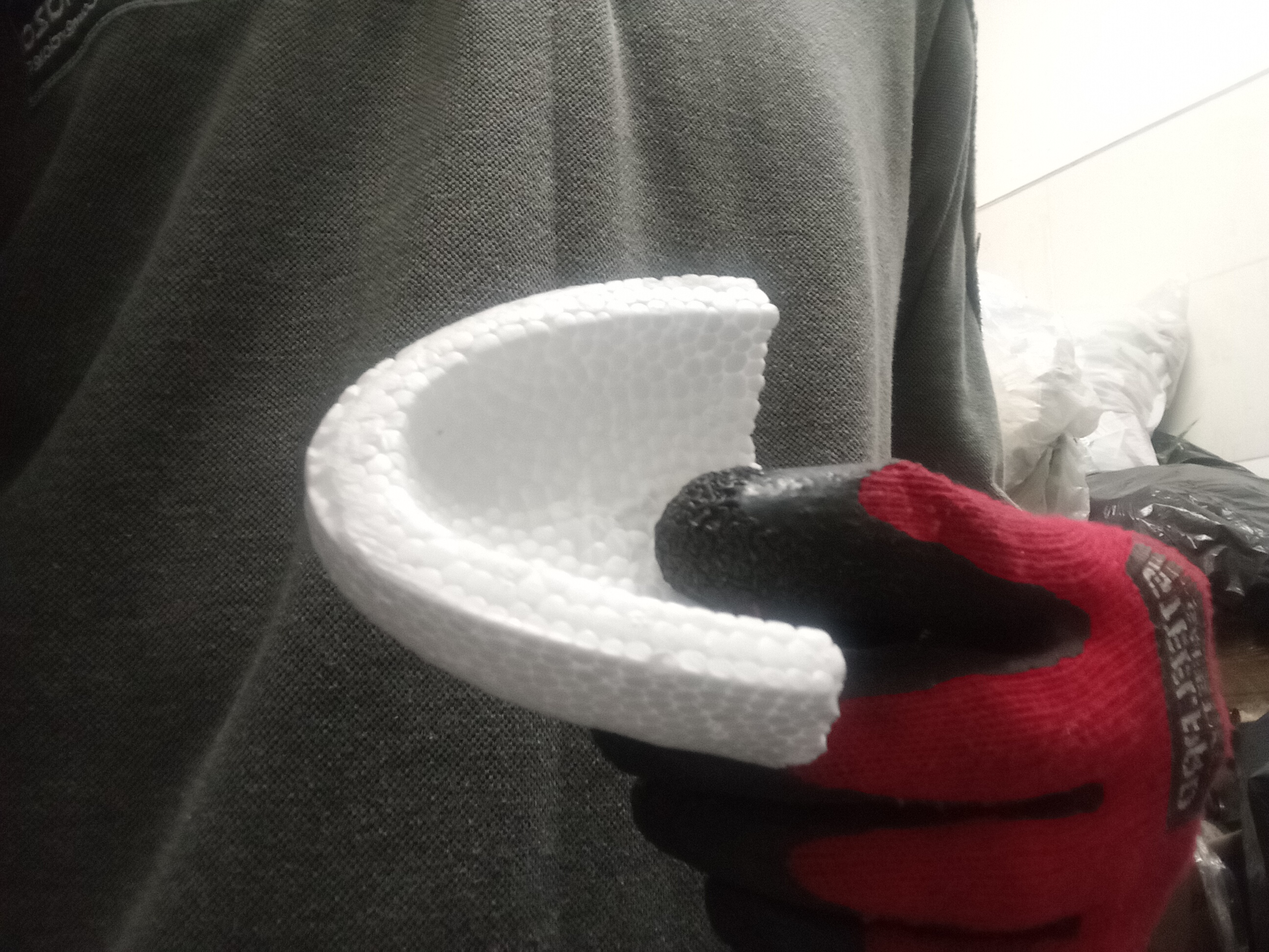Ordinario: (300, 275, 846, 770)
